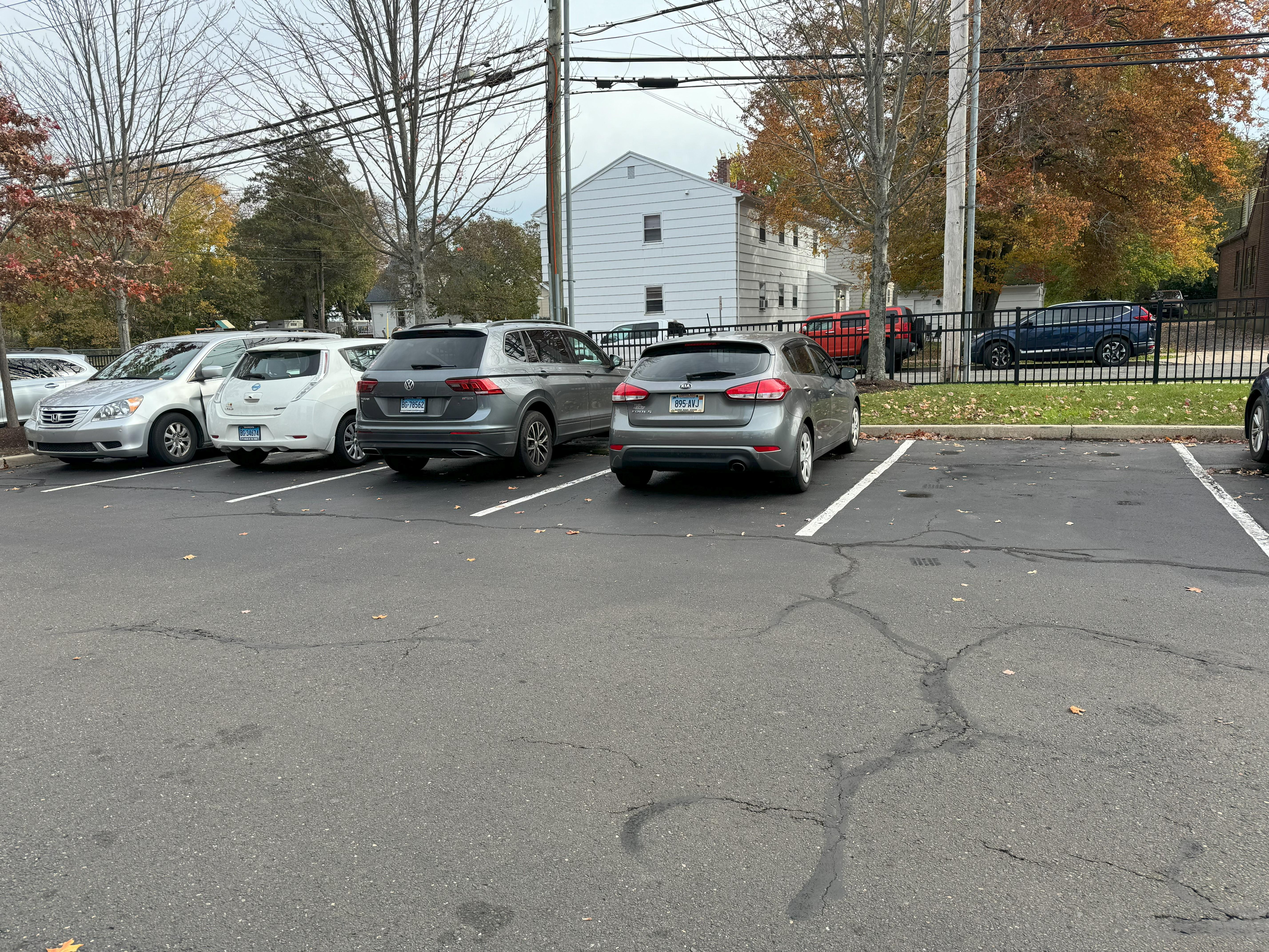empty: (902, 440, 1214, 590)
occupied: (631, 318, 871, 513), (380, 318, 605, 488), (18, 312, 192, 503), (207, 318, 359, 492)
